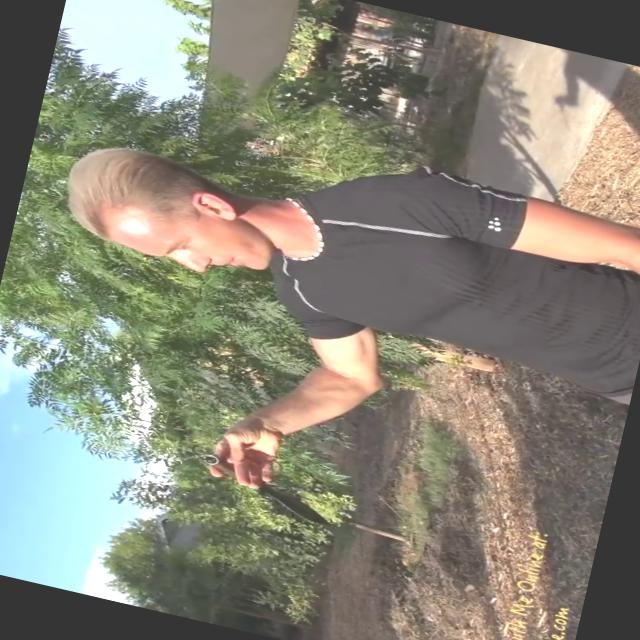knife: (180, 442, 348, 532)
